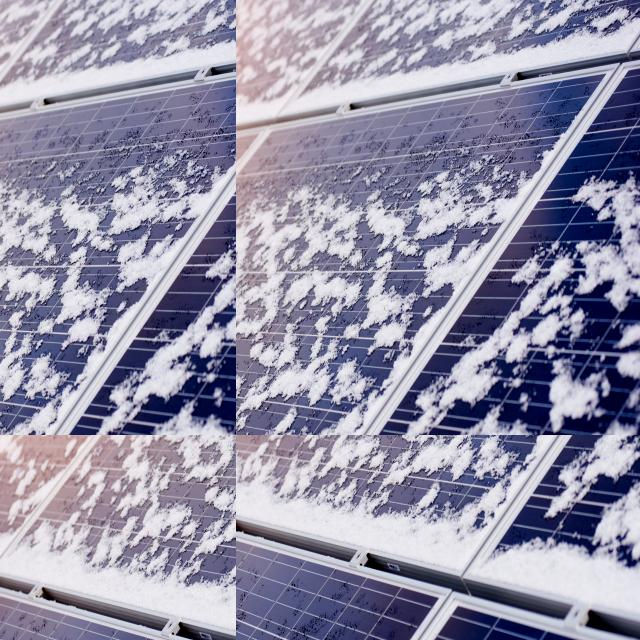bird: (35, 435, 56, 441), (43, 435, 72, 438), (0, 435, 13, 439), (0, 435, 10, 439), (32, 435, 42, 439), (0, 435, 4, 439), (0, 435, 5, 438), (31, 435, 36, 437)
panel: (239, 435, 357, 522), (355, 435, 454, 507), (335, 435, 457, 486), (473, 435, 575, 496), (503, 514, 591, 584), (299, 435, 382, 499), (472, 435, 565, 488), (573, 435, 640, 506), (584, 483, 640, 566), (394, 435, 468, 495), (332, 498, 409, 552), (574, 435, 632, 502), (404, 494, 482, 540), (237, 435, 337, 469), (236, 441, 296, 497), (479, 435, 550, 478), (236, 435, 279, 501), (236, 435, 285, 489), (604, 435, 640, 494), (236, 605, 285, 640), (584, 435, 605, 483), (236, 95, 263, 127), (236, 103, 265, 127), (236, 19, 258, 44), (236, 24, 262, 45), (236, 51, 250, 78), (0, 0, 12, 28), (236, 54, 252, 72), (236, 59, 246, 83), (0, 8, 9, 34), (236, 8, 246, 27), (236, 0, 253, 11), (0, 17, 8, 40), (236, 0, 249, 14), (236, 34, 242, 59), (236, 0, 248, 12), (236, 56, 241, 79), (236, 0, 246, 10), (236, 0, 243, 11), (0, 0, 10, 7), (0, 0, 9, 7), (0, 0, 12, 5), (0, 0, 6, 9), (0, 0, 6, 6)
